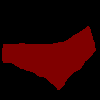mutande: (2, 25, 96, 90)
